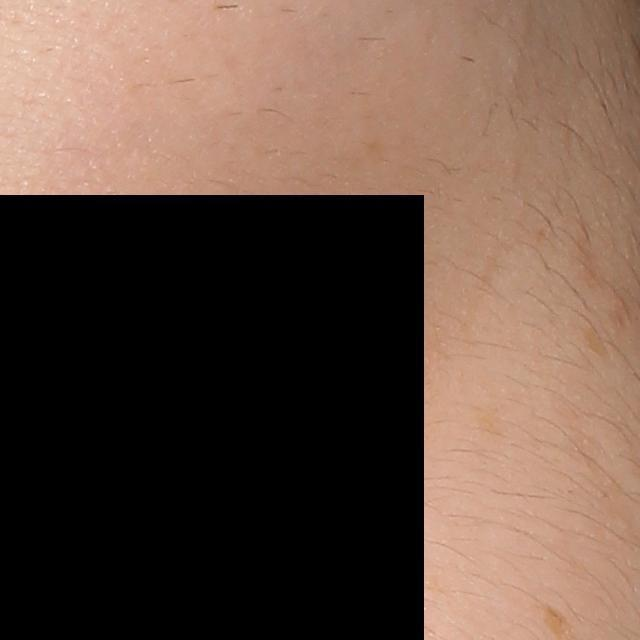melasma: (468, 403, 516, 448), (578, 323, 613, 364)
